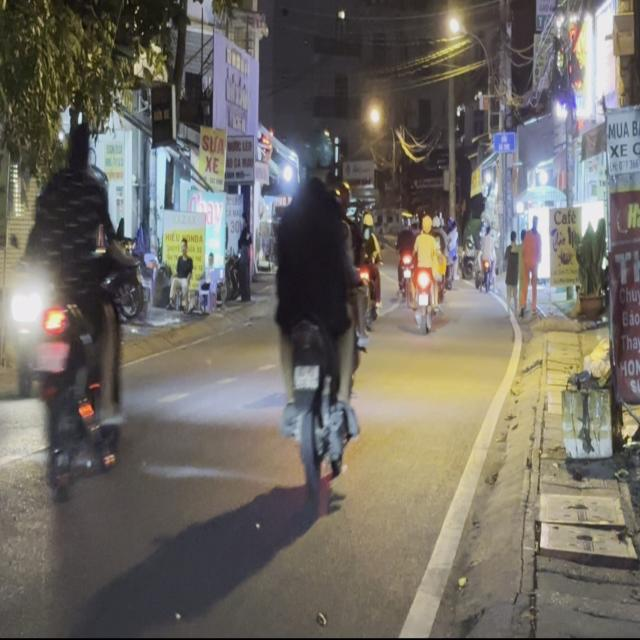helmet: (307, 131, 338, 190)
licenseplate: (18, 107, 130, 625), (268, 127, 367, 508)
motorcyclist: (61, 117, 92, 169)
nohelmet: (34, 341, 69, 371), (293, 363, 318, 388)
